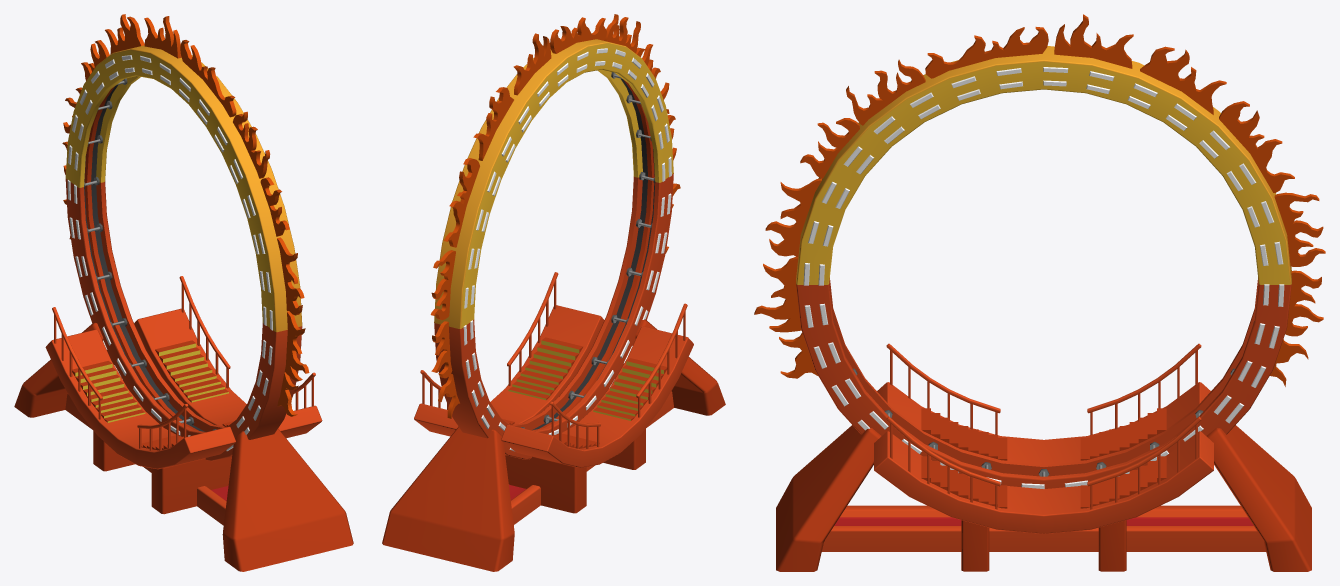
File: attraction_7_001.gltf
3 views of the same model, side by side, from view 1: azimuth 30°, elevation 25°; view 2: azimuth 150°, elevation 25°; view 3: azimuth 270°, elevation 25° (orthographic). The views are drawn at different scales.
Parts seen in each view (by area): view 1: attraction_7_001; view 2: attraction_7_001; view 3: attraction_7_001.
Part boxes in pixels (box(x1,y1,x2,y2)): attraction_7_001: box(14, 14, 353, 571); attraction_7_001: box(382, 14, 725, 571); attraction_7_001: box(754, 14, 1325, 571).
Bounding box in the file's own units: 7.34 × 23.61 × 23.32.
2 materials, 1 textured.
